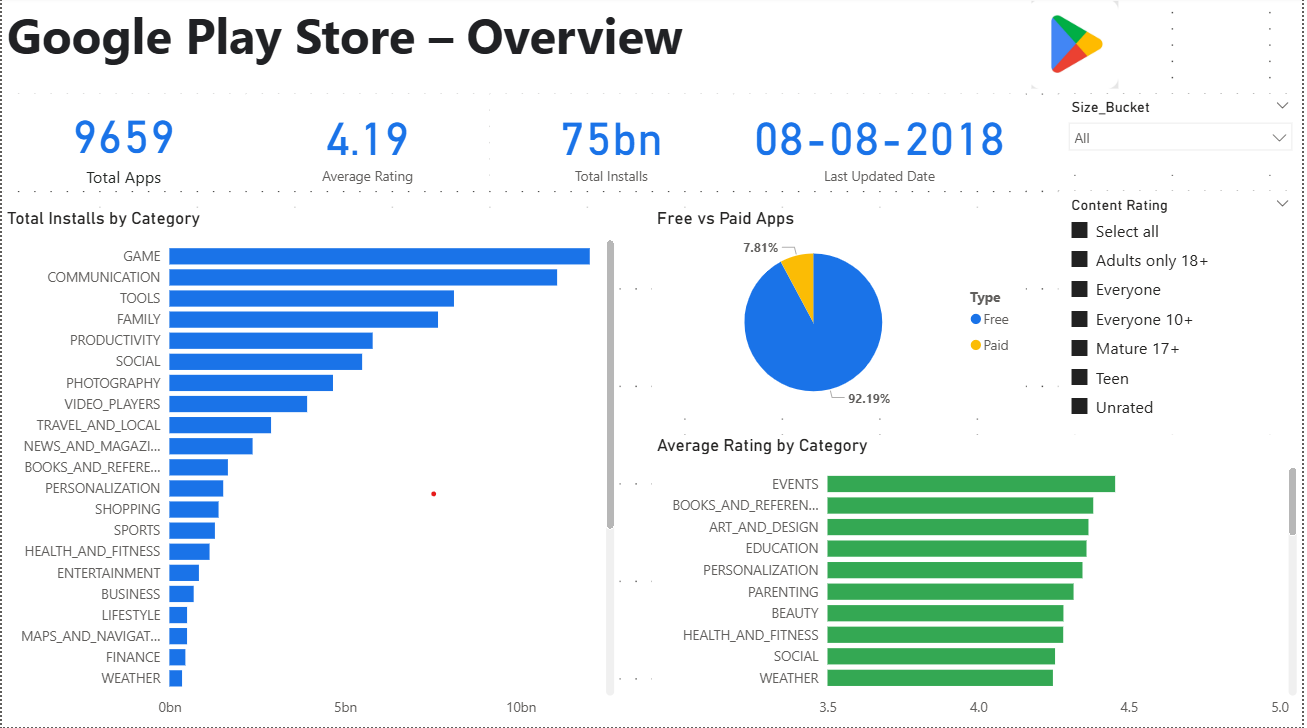

Layout of this report page (visuals, bound fields, positions):
{"tool":"powerbi","page":{"name":"Overview","canvas":[1280,720],"ordinal":0},"visuals":[{"type":"textbox","box":[0,0,1040,96],"z":0},{"type":"card","fields":{"Values":["Cleaned_Play_Store_Data.Total Apps"]},"box":[0,96,240,96],"z":1000},{"type":"card","fields":{"Values":["Cleaned_Play_Store_Data.Average Rating"]},"box":[240,96,240,96],"z":2000},{"type":"card","fields":{"Values":["Cleaned_Play_Store_Data.Total Installs"]},"box":[480,96,240,96],"z":3000},{"type":"card","fields":{"Values":["Cleaned_Play_Store_Data.Last Updated Date"]},"box":[720,96,288,96],"z":4000},{"type":"barChart","title":"Total Installs by Category","fields":{"Category":["Cleaned_Play_Store_Data.Category"],"Y":["Sum(Cleaned_Play_Store_Data.Installs)"]},"box":[0,208,608,512],"z":5000},{"type":"clusteredBarChart","title":"Average Rating by Category","fields":{"Category":["Cleaned_Play_Store_Data.Category"],"Y":["Avg(Cleaned_Play_Store_Data.Rating)"]},"box":[640,432,640,288],"z":6000},{"type":"pieChart","title":"Free vs Paid Apps","fields":{"Category":["Cleaned_Play_Store_Data.Type"],"Y":["Cleaned_Play_Store_Data.Total Apps"]},"box":[640,208,368,208],"z":7000},{"type":"slicer","fields":{"Values":["Cleaned_Play_Store_Data.Content Rating"]},"box":[1040,192,240,240],"z":8000},{"type":"slicer","fields":{"Values":["Cleaned_Play_Store_Data.Size_Bucket"]},"box":[1040,96,240,80],"z":9000},{"type":"image","box":[1008,0,96,96],"z":9001}]}

Visuals, with their boxes in screenshot pixels (x1, y1, x2, y2), scaled from the page's 1280x720 canvas onto the 1307x728 screenshot:
textbox: 0:0:1062:97
card - Cleaned_Play_Store_Data.Total Apps: 0:97:245:194
card - Cleaned_Play_Store_Data.Average Rating: 245:97:490:194
card - Cleaned_Play_Store_Data.Total Installs: 490:97:735:194
card - Cleaned_Play_Store_Data.Last Updated Date: 735:97:1029:194
"Total Installs by Category" barChart: 0:210:621:727
"Average Rating by Category" clusteredBarChart: 654:437:1306:727
"Free vs Paid Apps" pieChart: 654:210:1029:421
slicer - Cleaned_Play_Store_Data.Content Rating: 1062:194:1306:437
slicer - Cleaned_Play_Store_Data.Size_Bucket: 1062:97:1306:178
image: 1029:0:1127:97
